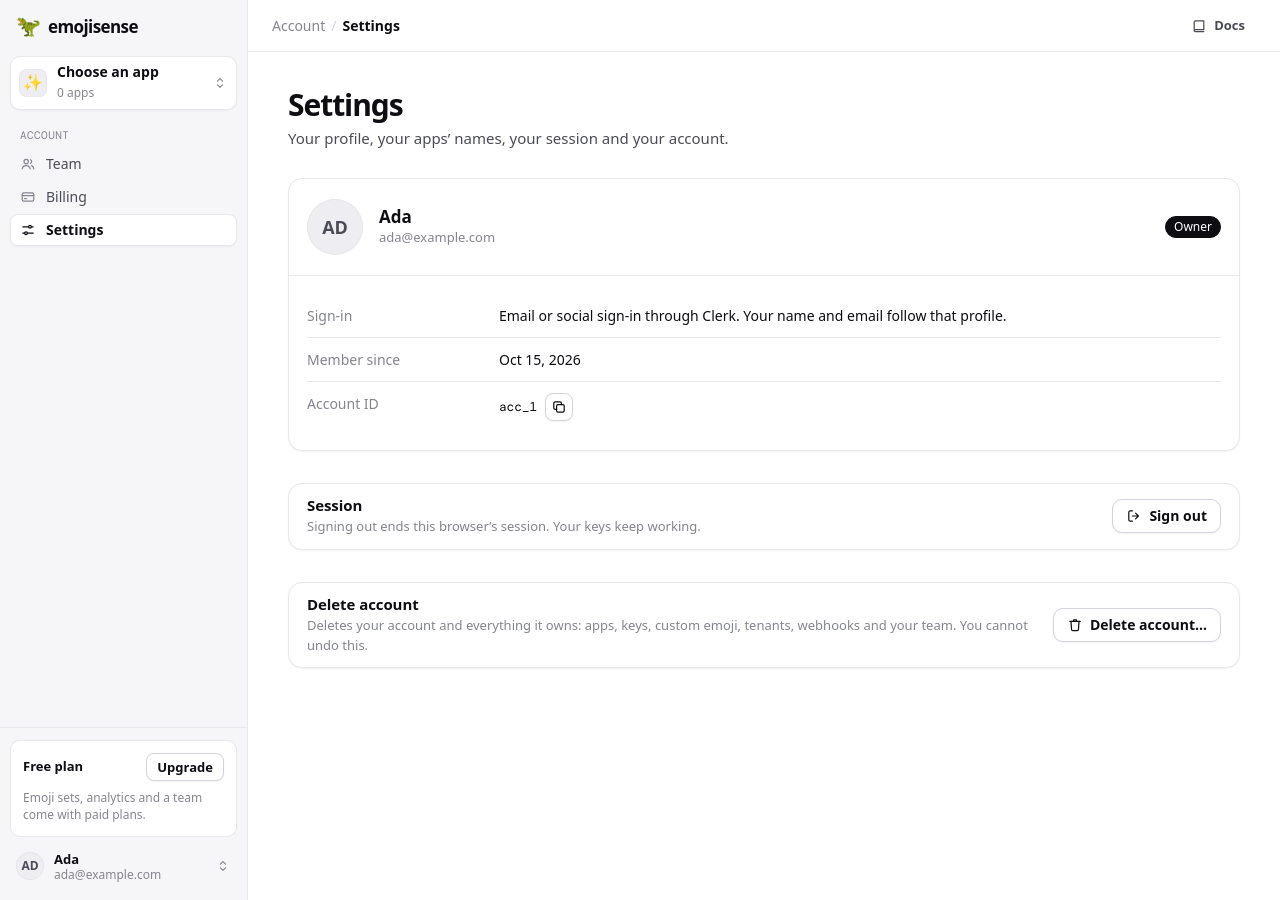
settings page › keeps the dialog open and shows the server's message when the deletion fails
Click the button "Delete account…".
click(1137, 625)  # box [1053,608,1221,642]
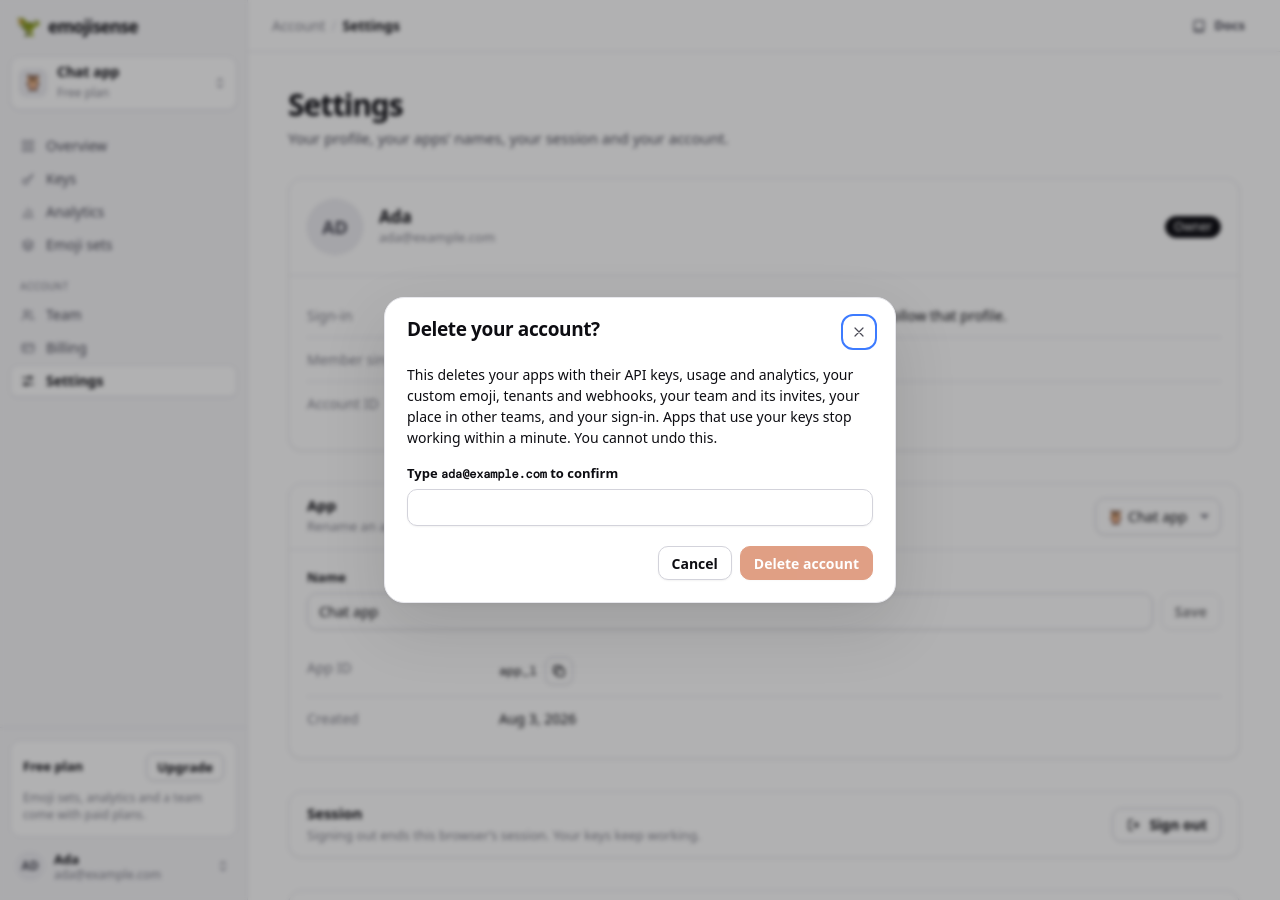
Type "ada@example.com" into the field labelled "Type ada@example.com to confirm".
click(640, 508); type("ada@example.com")  # box [407,490,873,526]
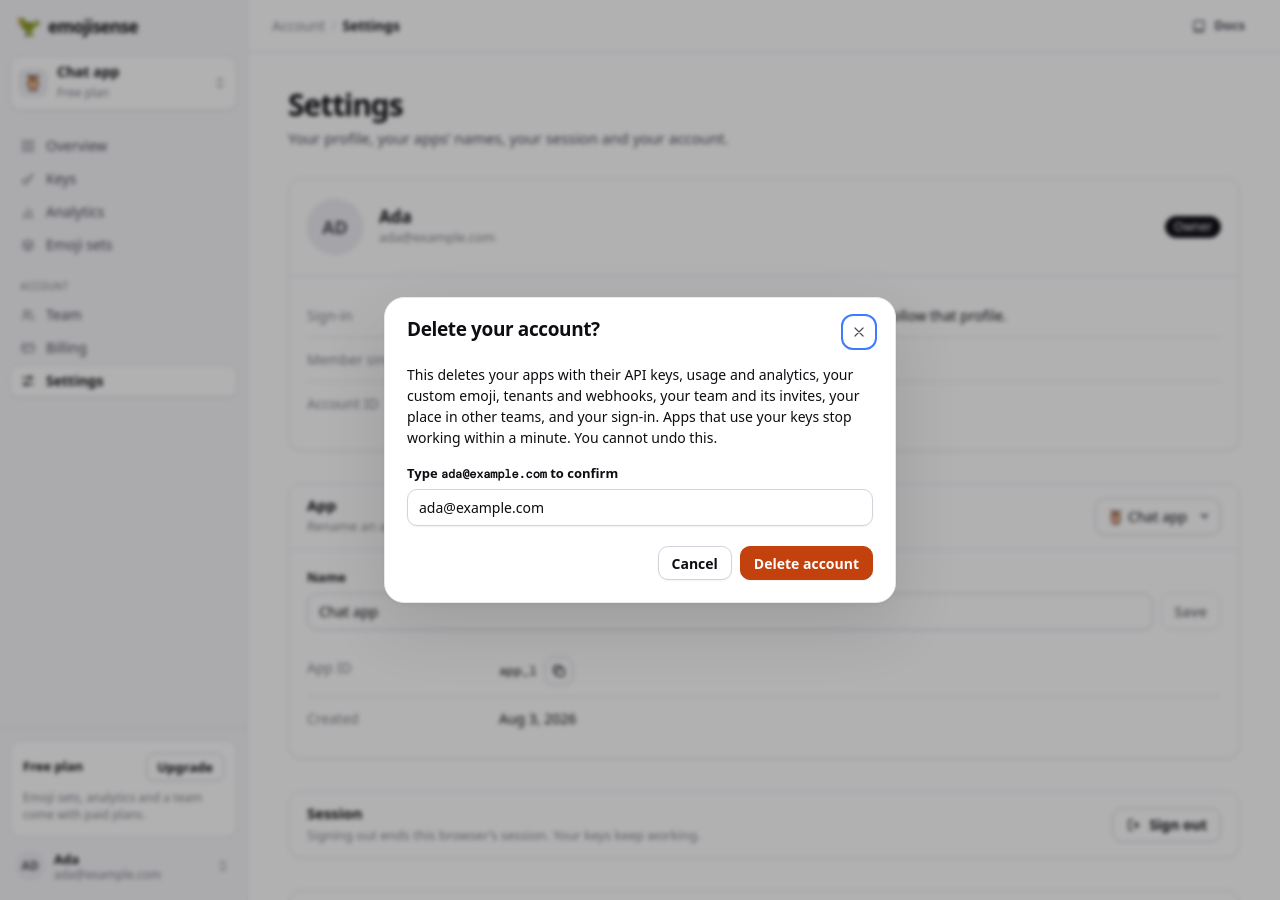
Click the button "Delete account".
click(806, 564)  # box [740,546,873,580]
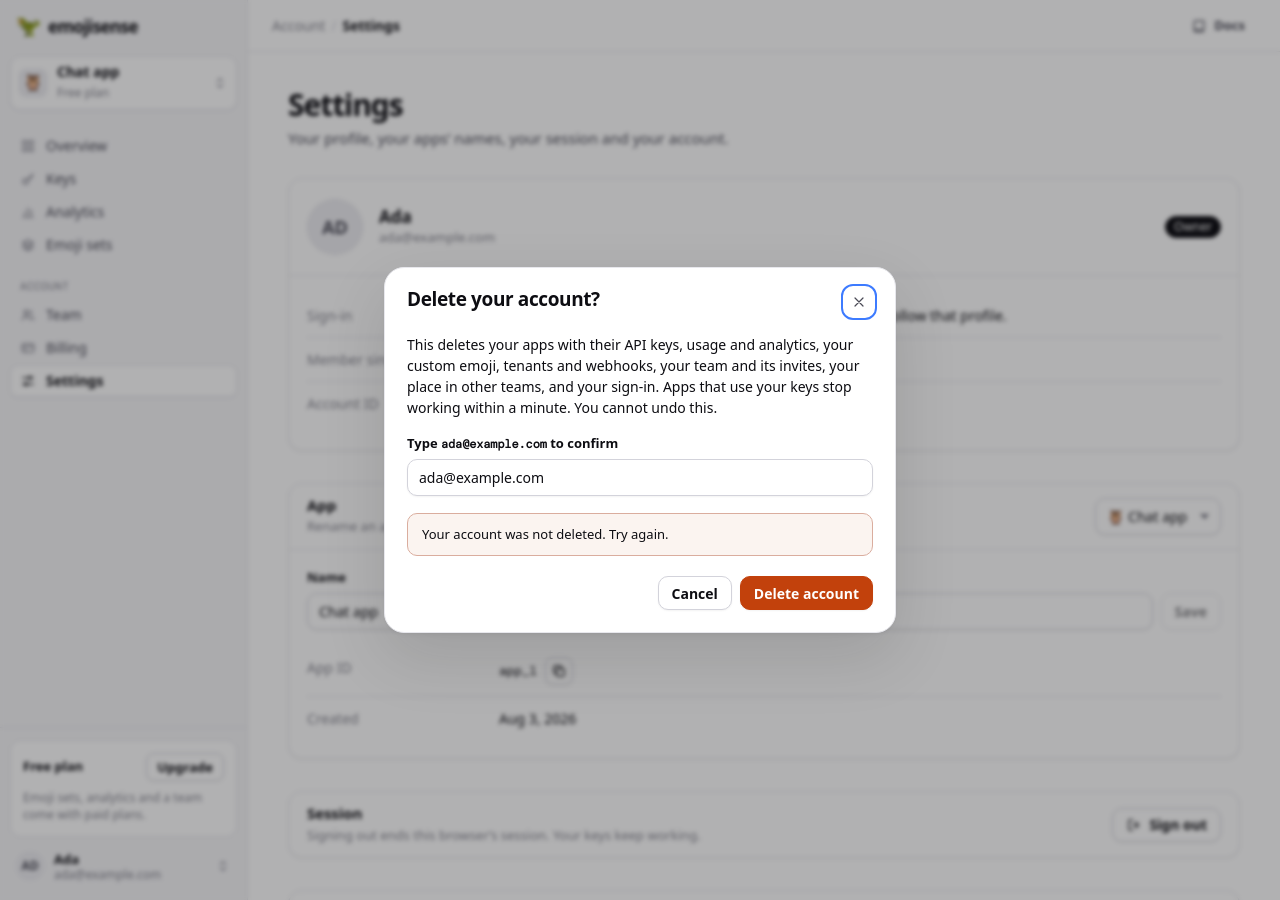
Expected: the message reads "Your account was not deleted. Try again.", [422,525,668,543]
